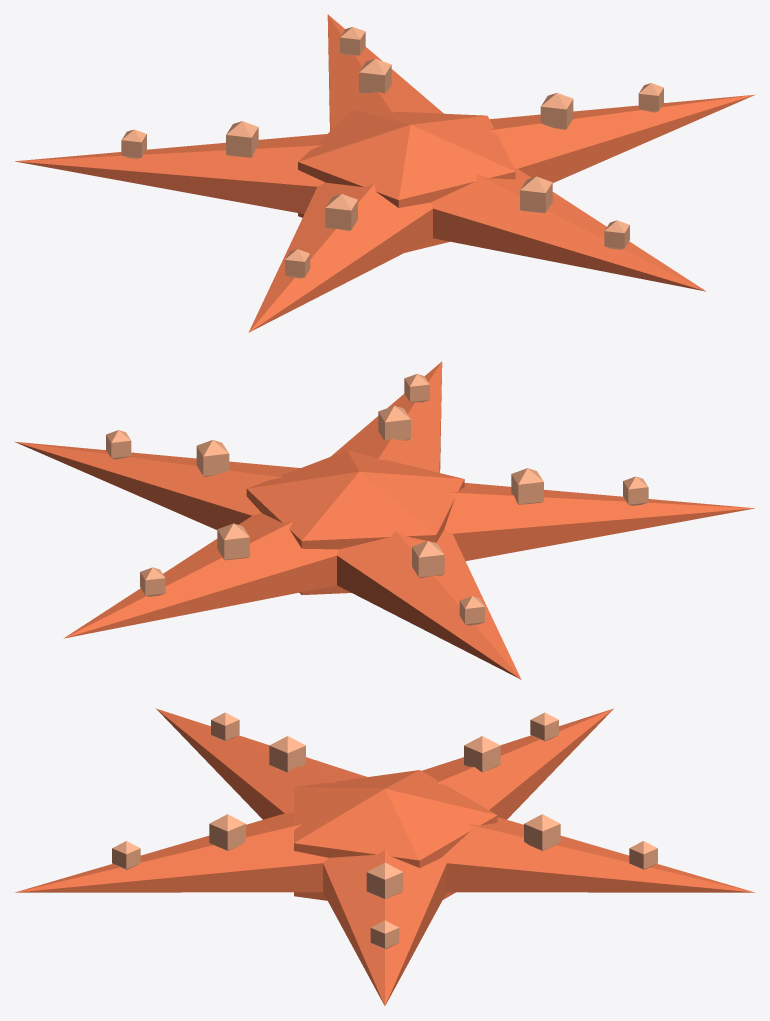
Rendered from starfish.glb.
3 views of the same model, one above another, from view 1: azimuth 30°, elevation 25°; view 2: azimuth 150°, elevation 25°; view 3: azimuth 270°, elevation 25° (orthographic). The views are drawn at different scales.
Visible parts, largest first — view 1: starfish-m; view 2: starfish-m; view 3: starfish-m.
Boxes of the visible parts, <box> form: starfish-m: <box>15,14,755,332</box>; starfish-m: <box>14,361,754,679</box>; starfish-m: <box>15,708,754,1005</box>.
Bounding box in the file's own units: 0.597 × 0.099 × 0.6277.
